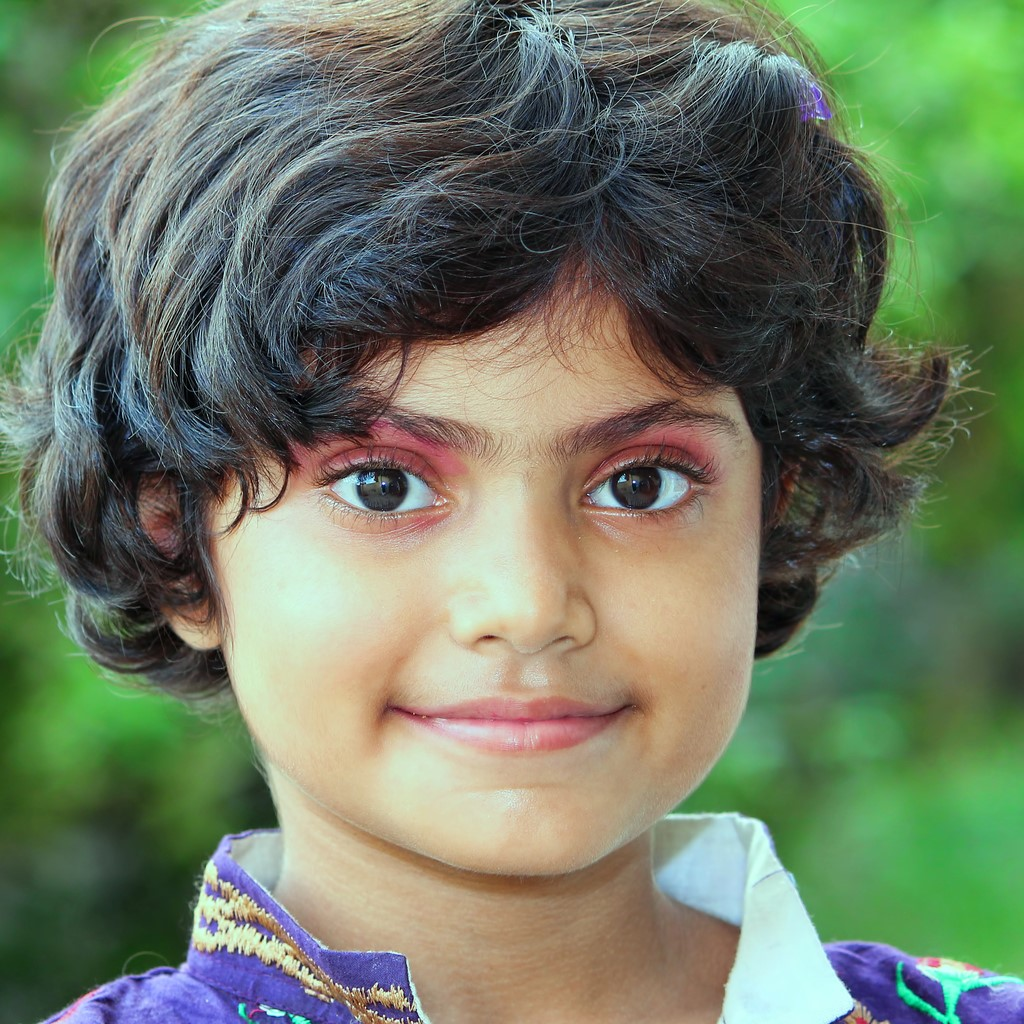sin_mascara: (215, 223, 767, 882)
